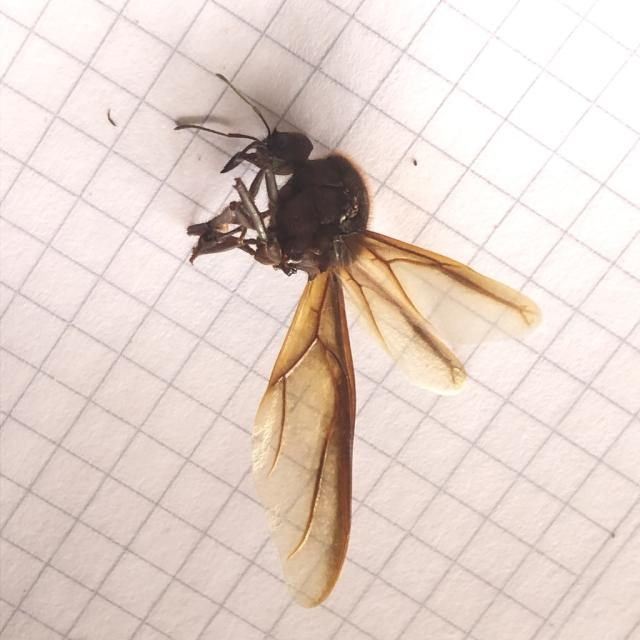Dead-Female-Alate: (173, 73, 542, 609)
